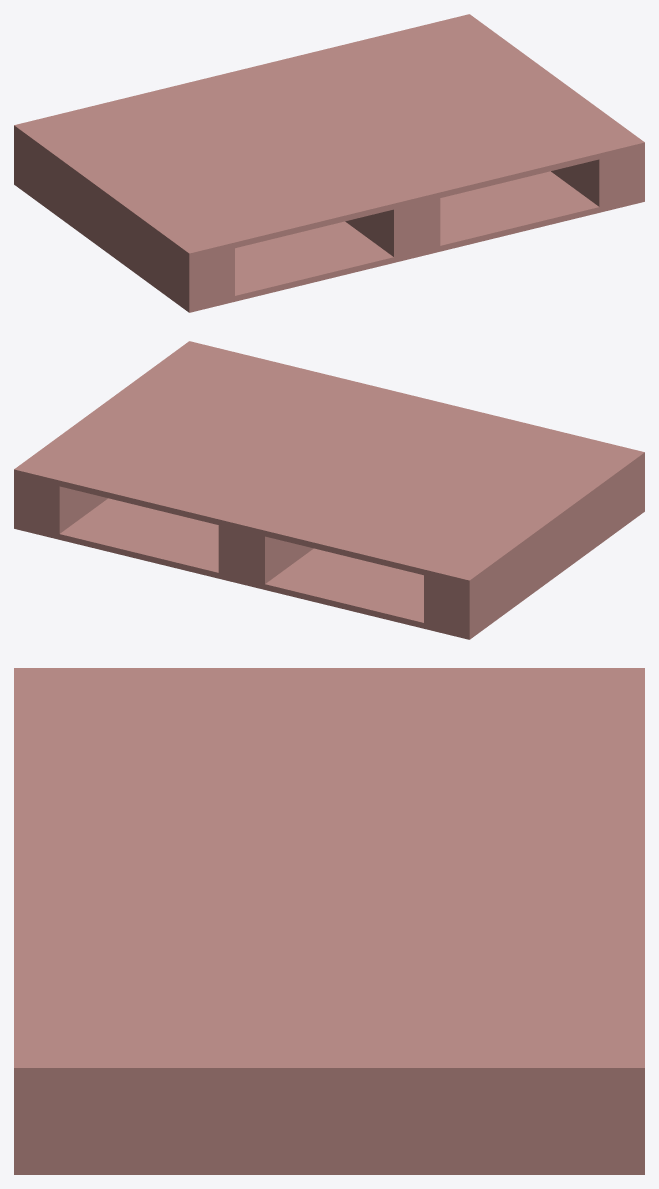
File: shelf_pad_.dae
The picture shows the model from 3 angles, top to bottom: view 1: azimuth 30°, elevation 25°; view 2: azimuth 150°, elevation 25°; view 3: azimuth 270°, elevation 25°; orthographic projection. The views are drawn at different scales.
Parts seen in each view (by area): view 1: Cube_001; view 2: Cube_001; view 3: Cube_001.
Boxes of the visible parts, x1,y1,x2,y2 form: Cube_001: (14,14,644,312); Cube_001: (14,341,644,639); Cube_001: (14,668,644,1174).
Bounding box in the file's own units: 0.45 × 0.3 × 0.056.
